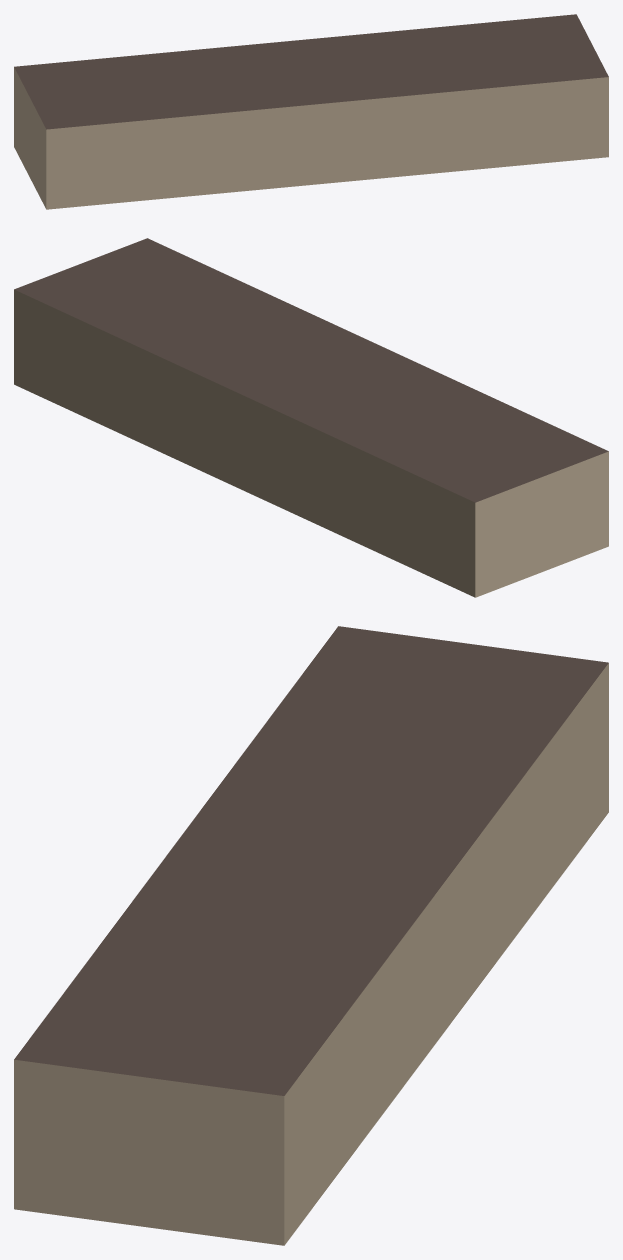
3 renders of one model, top to bottom at view 1: azimuth 30°, elevation 25°; view 2: azimuth 150°, elevation 25°; view 3: azimuth 270°, elevation 25°, orthographic. The views are drawn at different scales.
Parts seen in each view (by area): view 1: HP-w1286965533; view 2: HP-w1286965533; view 3: HP-w1286965533.
Part boxes in pixels (x1=…): HP-w1286965533: x1=14, y1=14, x2=608, y2=209; HP-w1286965533: x1=14, y1=238, x2=608, y2=597; HP-w1286965533: x1=14, y1=626, x2=608, y2=1245.
Size of the model in its own units: 60.6 by 9 by 32.42.
